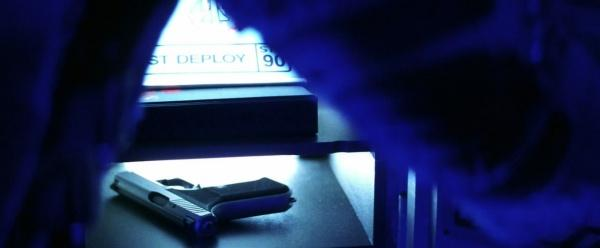Gun: (111, 171, 294, 243)
